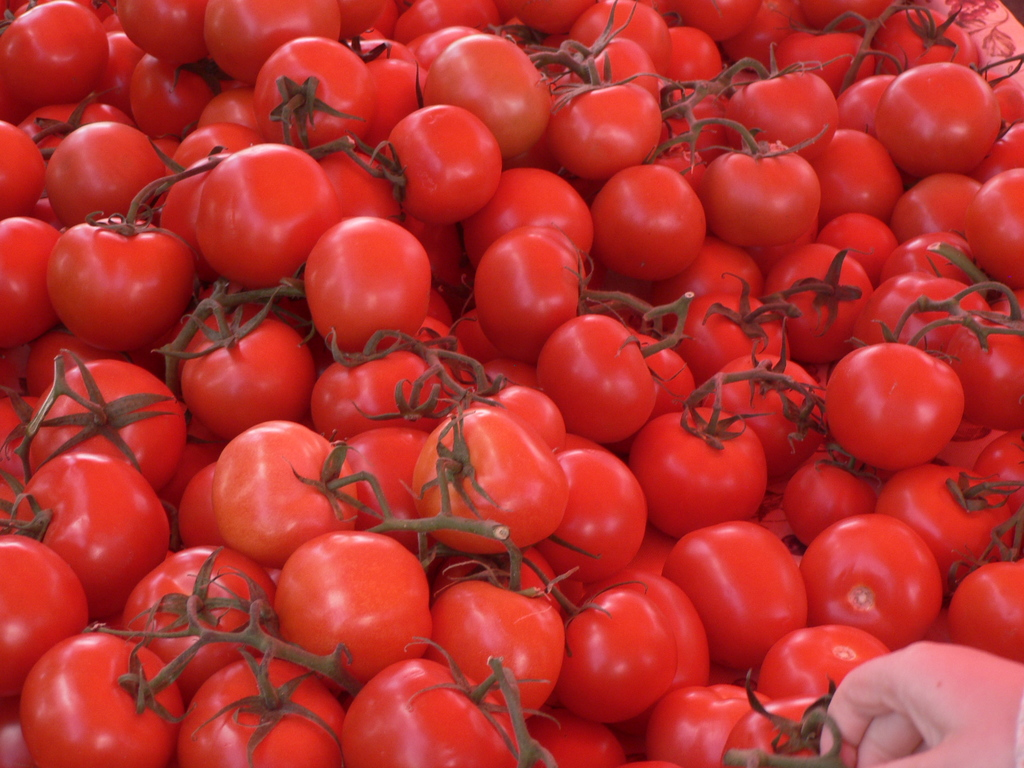Tomato: (0, 0, 1022, 768)
